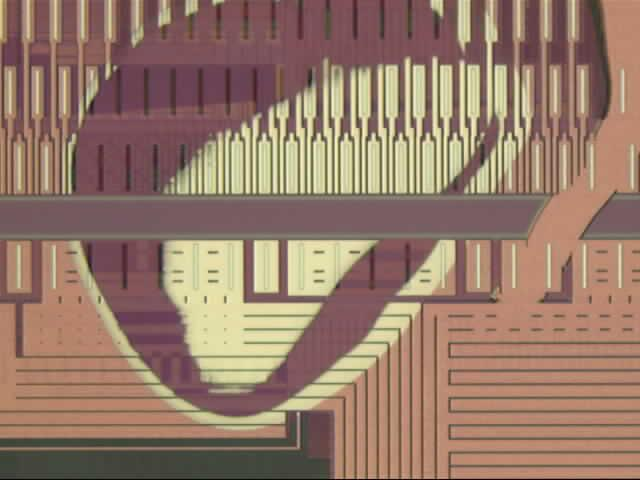COATING BAD: (67, 1, 640, 443)
